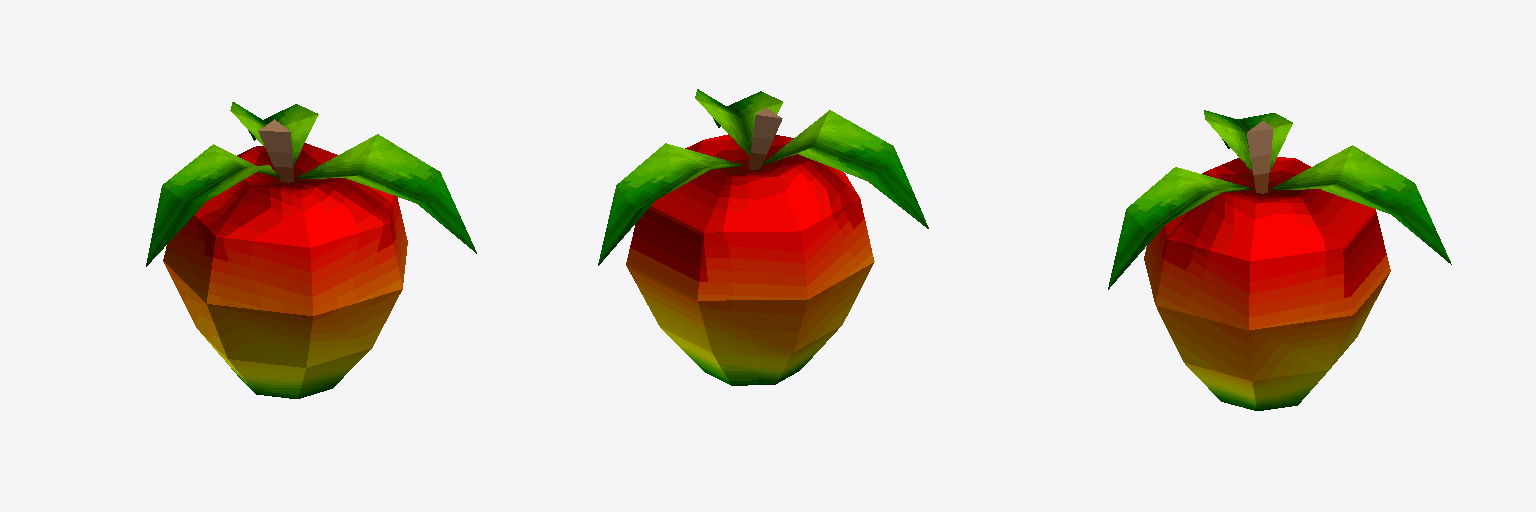
3 renders of one model, left to right at view 1: azimuth 30°, elevation 25°; view 2: azimuth 150°, elevation 25°; view 3: azimuth 270°, elevation 25°, orthographic.
Parts seen in each view (by area): view 1: Wumpa; view 2: Wumpa; view 3: Wumpa.
Part boxes in pixels (left/top/right/bottom): Wumpa: left=146, top=102, right=476, bottom=398; Wumpa: left=598, top=89, right=928, bottom=385; Wumpa: left=1108, top=110, right=1451, bottom=410.
Bounding box in the file's own units: 35.22 × 33.39 × 38.61.
Materials: 1 (1 with a texture image).